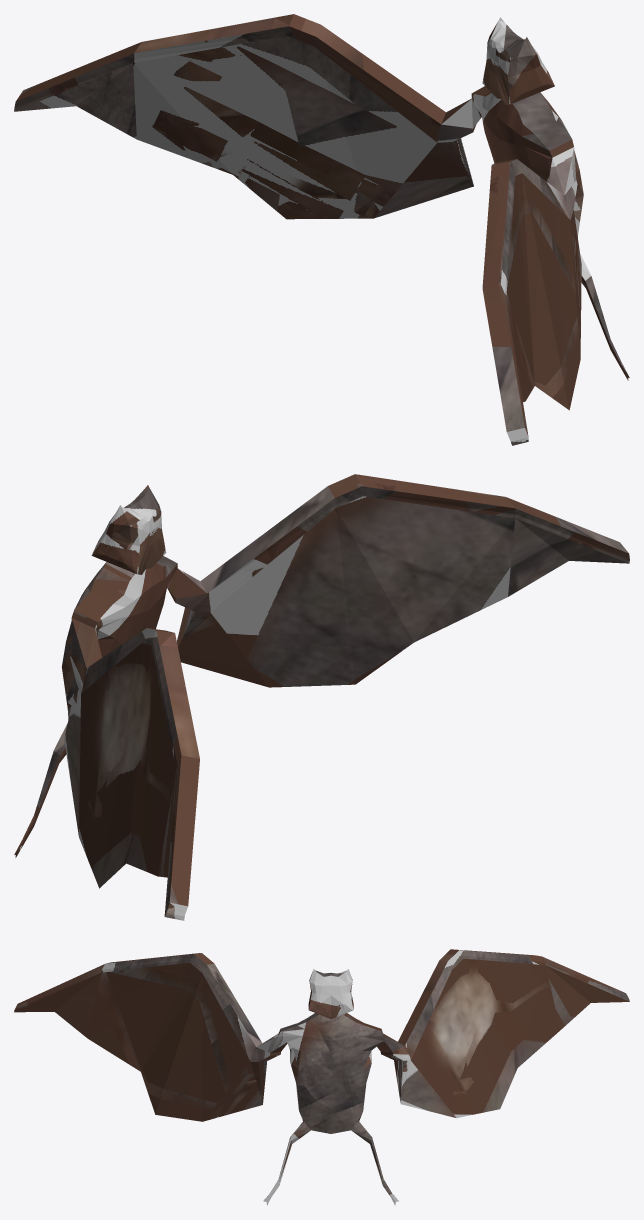
Rendered from Enemigo17.obj.
The picture shows the model from 3 angles, top to bottom: view 1: azimuth 30°, elevation 25°; view 2: azimuth 150°, elevation 25°; view 3: azimuth 270°, elevation 25°; orthographic projection. The views are drawn at different scales.
Visible parts, largest first — view 1: Plano; view 2: Plano; view 3: Plano.
Part boxes in pixels (bbox=[...]): Plano: bbox=[14, 14, 629, 445]; Plano: bbox=[14, 474, 629, 920]; Plano: bbox=[14, 949, 629, 1205].
Bounding box in the file's own units: 0.7952 × 0.7444 × 1.92.
Materials: 1 (1 with a texture image).
